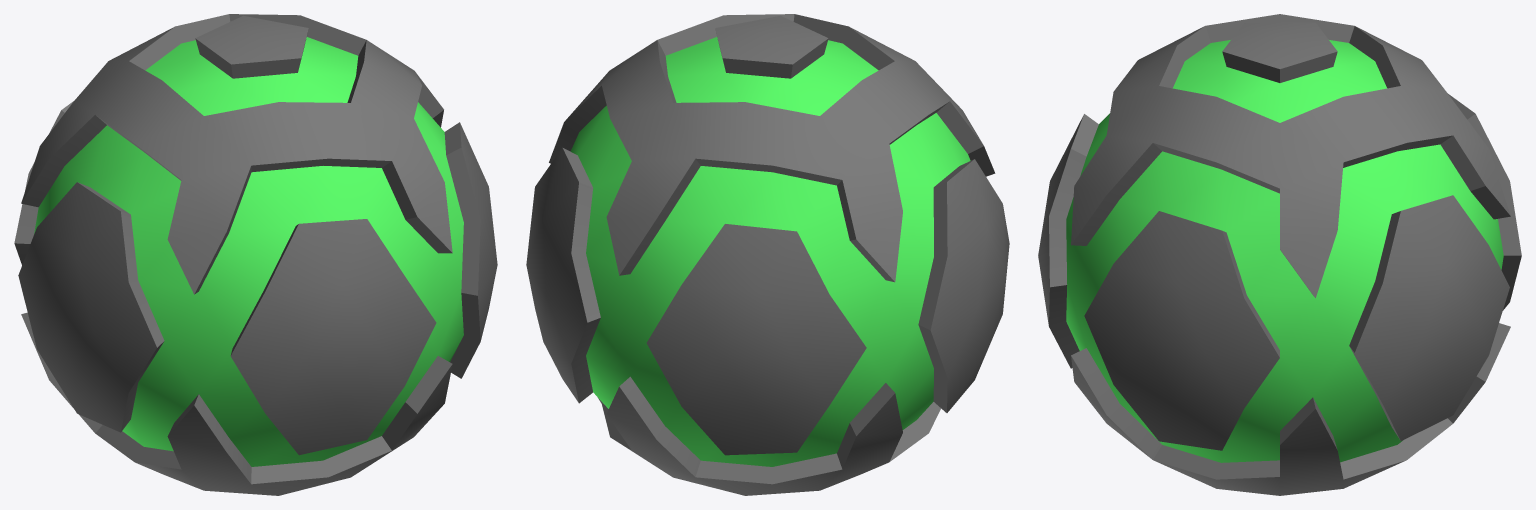
File: TestBall.fbx
3 views of the same model, side by side, from view 1: azimuth 30°, elevation 25°; view 2: azimuth 150°, elevation 25°; view 3: azimuth 270°, elevation 25° (orthographic).
Parts seen in each view (by area): view 1: Icosphere; view 2: Icosphere; view 3: Icosphere.
Part boxes in pixels (bbox=[...]): Icosphere: bbox=[14, 14, 497, 495]; Icosphere: bbox=[526, 14, 1009, 495]; Icosphere: bbox=[1038, 14, 1521, 495].
Size of the model in its own units: 200 by 200 by 200.
1 material, 1 textured.
